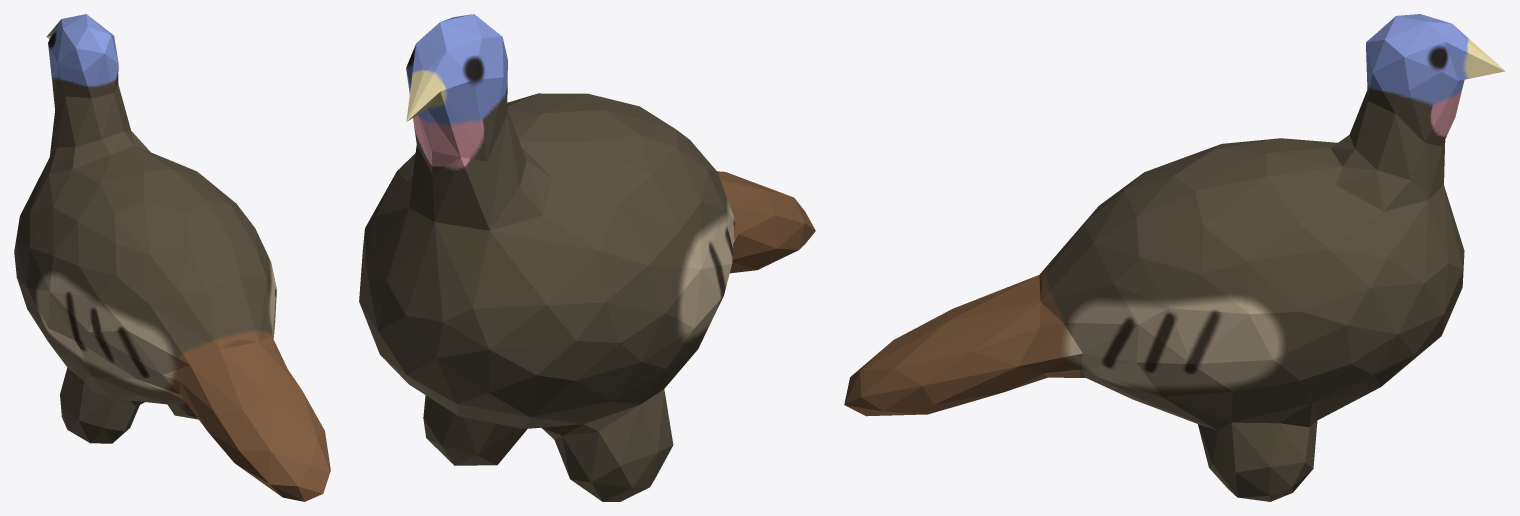
Rendered from animal_turkey_hen_blob.obj.
3 renders of one model, left to right at view 1: azimuth 30°, elevation 25°; view 2: azimuth 150°, elevation 25°; view 3: azimuth 270°, elevation 25°, orthographic. The views are drawn at different scales.
Visible parts, largest first — view 1: animal_turkey_hen_blob; view 2: animal_turkey_hen_blob; view 3: animal_turkey_hen_blob.
Boxes of the visible parts, box(x1,y1,x2,y2) form: animal_turkey_hen_blob: box(14, 14, 330, 501); animal_turkey_hen_blob: box(359, 14, 815, 501); animal_turkey_hen_blob: box(844, 14, 1505, 501).
Bounding box in the file's own units: 0.4246 × 0.7265 × 0.9644.
